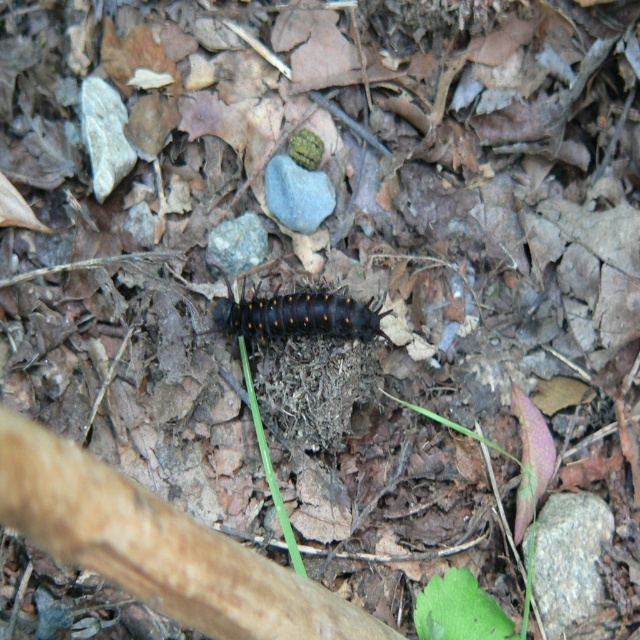Centipede: (208, 247, 396, 366)
